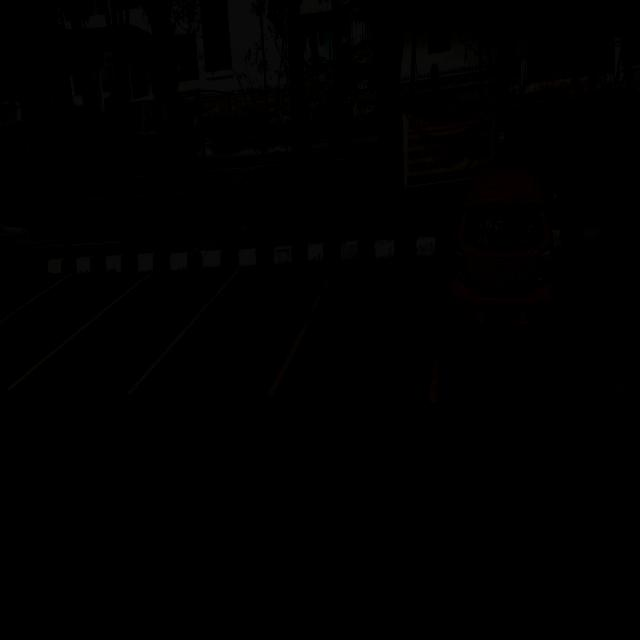empty: (301, 251, 441, 406), (193, 253, 310, 402), (92, 262, 190, 402), (14, 255, 100, 388)
occupied: (445, 236, 584, 406)
